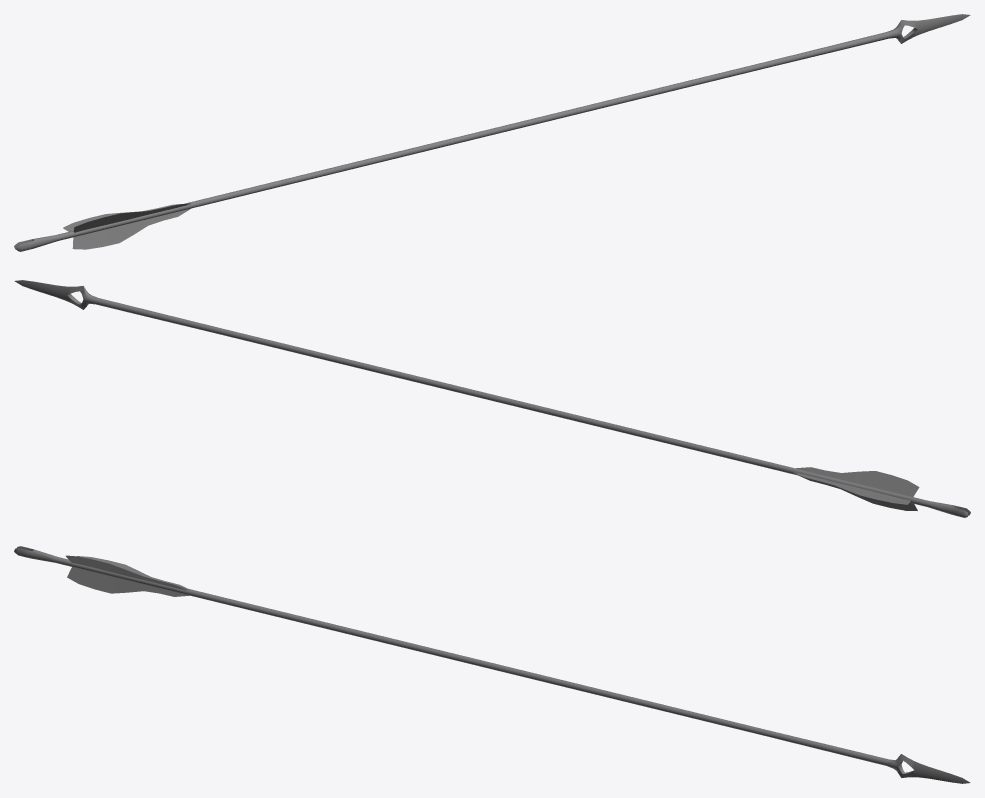
The model's file is Elven Long Bow Arrow.obj.glb.
3 views of the same model, one above another, from view 1: azimuth 30°, elevation 25°; view 2: azimuth 150°, elevation 25°; view 3: azimuth 330°, elevation 25° (orthographic).
Parts seen in each view (by area): view 1: node_id3; view 2: node_id3; view 3: node_id3.
Boxes of the visible parts, bbox=[...] form: node_id3: bbox=[14, 14, 970, 251]; node_id3: bbox=[14, 280, 970, 517]; node_id3: bbox=[14, 546, 970, 783].
Bounding box in the file's own units: 0.512 × 0.016 × 0.0149.
1 material, 1 textured.
